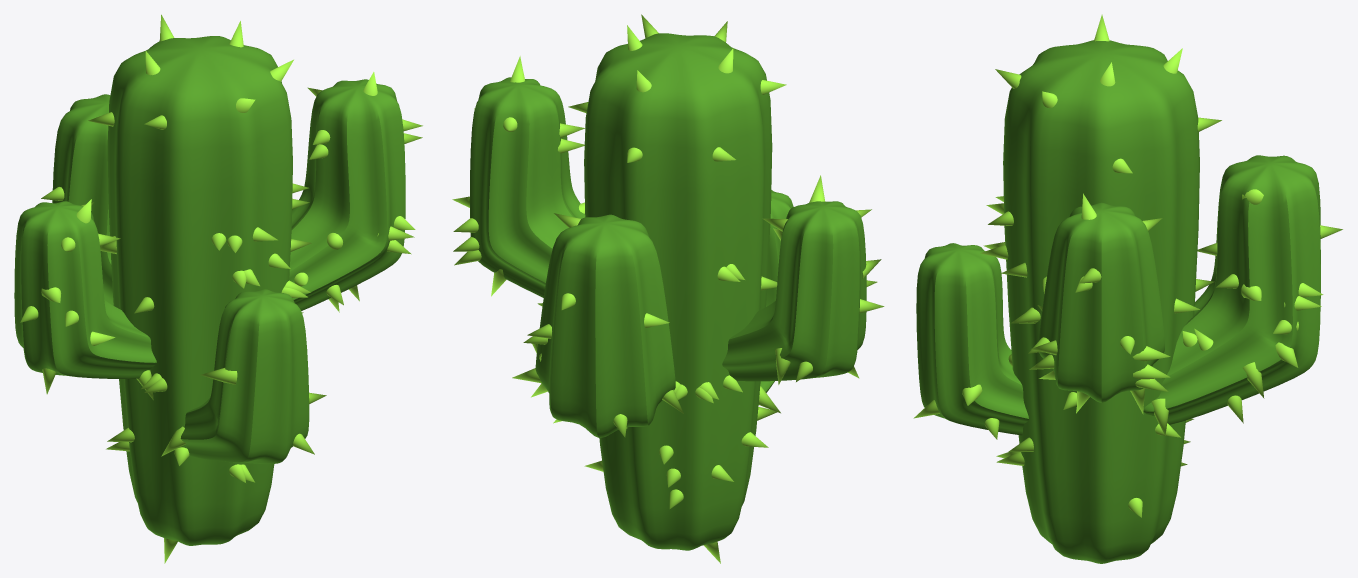
Rendered from Cactus7.fbx.
The picture shows the model from 3 angles, left to right: view 1: azimuth 30°, elevation 25°; view 2: azimuth 150°, elevation 25°; view 3: azimuth 270°, elevation 25°; orthographic projection. The views are drawn at different scales.
Visible parts, largest first — view 1: Cactus7; view 2: Cactus7; view 3: Cactus7.
Boxes of the visible parts, x1,y1,x2,y2 form: Cactus7: [14, 14, 422, 563]; Cactus7: [452, 14, 884, 563]; Cactus7: [913, 14, 1342, 563].
Bounding box in the file's own units: 612 × 748 × 550.
